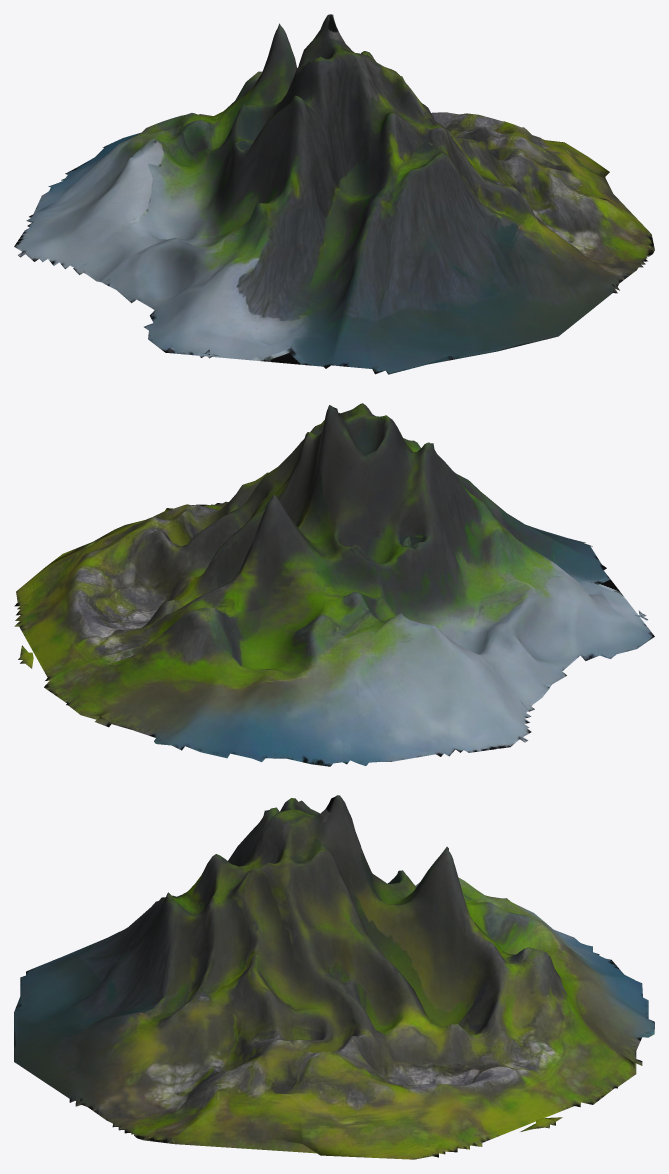
Rendered from Mountain Black Healthy v1.glb.
3 renders of one model, top to bottom at view 1: azimuth 30°, elevation 25°; view 2: azimuth 150°, elevation 25°; view 3: azimuth 270°, elevation 25°, orthographic. The views are drawn at different scales.
Visible parts, largest first — view 1: Mesh0; view 2: Mesh0; view 3: Mesh0.
Boxes of the visible parts, x1,y1,x2,y2 form: Mesh0: (14, 14, 654, 374); Mesh0: (14, 403, 654, 766); Mesh0: (14, 795, 654, 1159).
Bounding box in the file's own units: 1.92 × 0.7874 × 1.98.
1 material, 1 textured.
